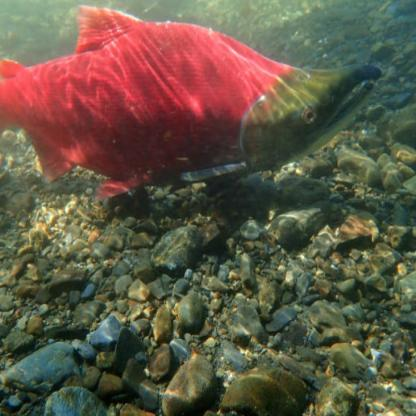sockeye: (0, 10, 372, 184)
